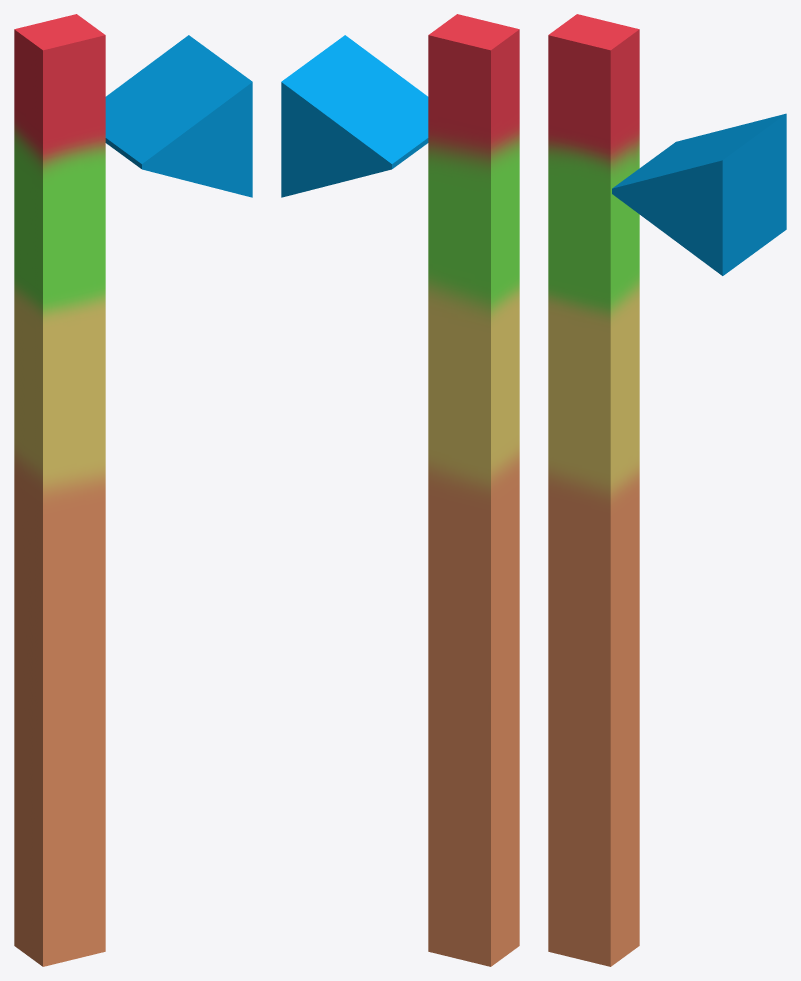
File: bar2.gltf
3 views of the same model, side by side, from view 1: azimuth 30°, elevation 25°; view 2: azimuth 150°, elevation 25°; view 3: azimuth 330°, elevation 25° (orthographic).
Visible parts, largest first — view 1: Cube; view 2: Cube; view 3: Cube.
Part boxes in pixels (bbox=[...]): Cube: bbox=[14, 14, 252, 966]; Cube: bbox=[281, 14, 519, 966]; Cube: bbox=[548, 14, 786, 966].
Bounding box in the file's own units: 0.4388 × 2 × 0.2531.
